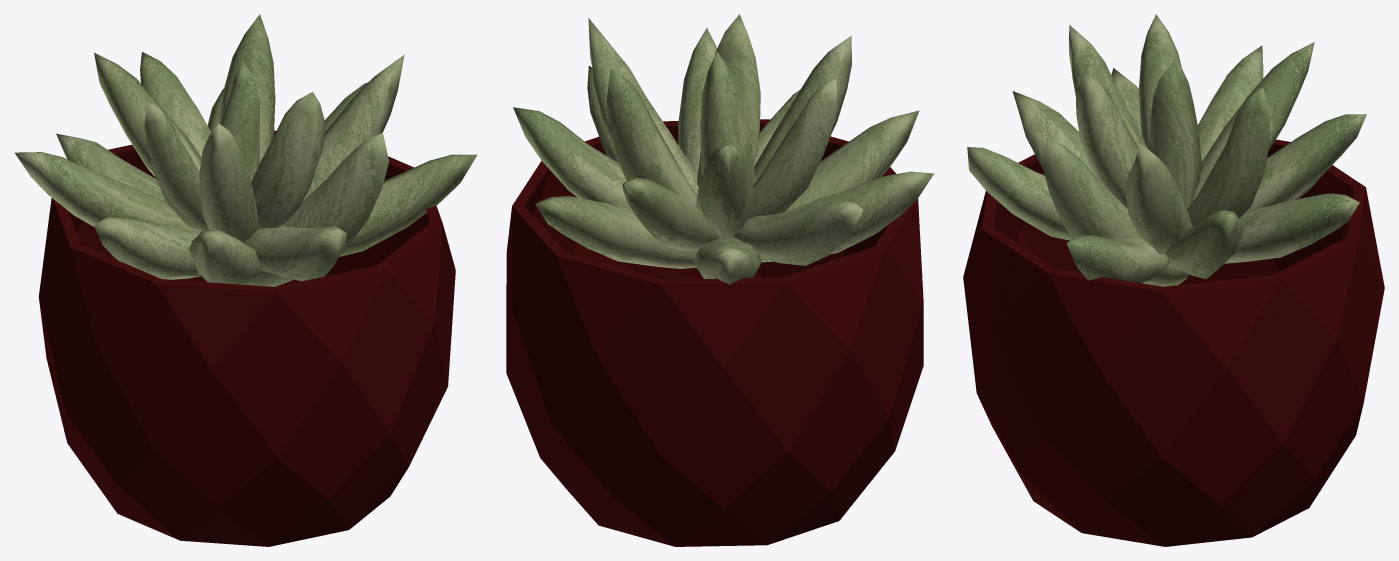
The model's file is ECHEVERIA_AMOENA_PORCELAIN_DIAMOND_POT.glb.
3 renders of one model, left to right at view 1: azimuth 30°, elevation 25°; view 2: azimuth 150°, elevation 25°; view 3: azimuth 270°, elevation 25°, orthographic. The views are drawn at different scales.
Parts seen in each view (by area): view 1: DiamondPlanterHole, GA_cactus; view 2: DiamondPlanterHole, GA_cactus; view 3: DiamondPlanterHole, GA_cactus.
Part boxes in pixels (bbox=[...]): DiamondPlanterHole: bbox=[38, 130, 455, 546]; GA_cactus: bbox=[15, 14, 477, 286]; DiamondPlanterHole: bbox=[506, 119, 923, 546]; GA_cactus: bbox=[513, 14, 934, 284]; DiamondPlanterHole: bbox=[963, 139, 1384, 546]; GA_cactus: bbox=[967, 14, 1366, 286].
Size of the model in its own units: 0.9797 by 1.09 by 0.977.
Materials: 2 (2 with a texture image).
